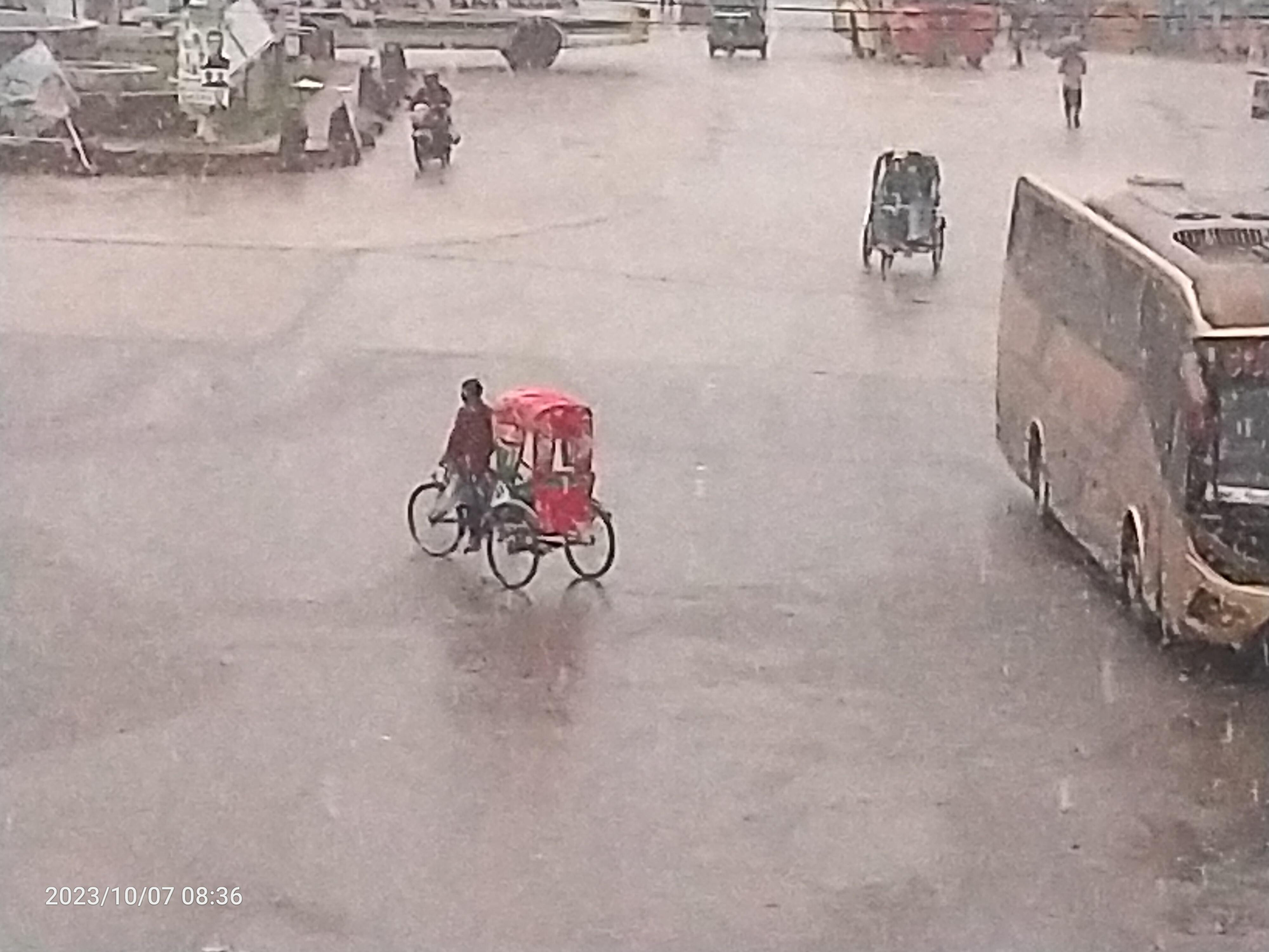Bike: (379, 47, 500, 196)
Bus: (982, 151, 1269, 684), (227, 0, 665, 83), (816, 0, 1027, 86)
Car: (381, 338, 644, 634), (845, 124, 976, 338)
